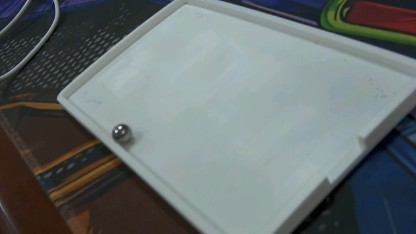ironball: (110, 117, 130, 142)
